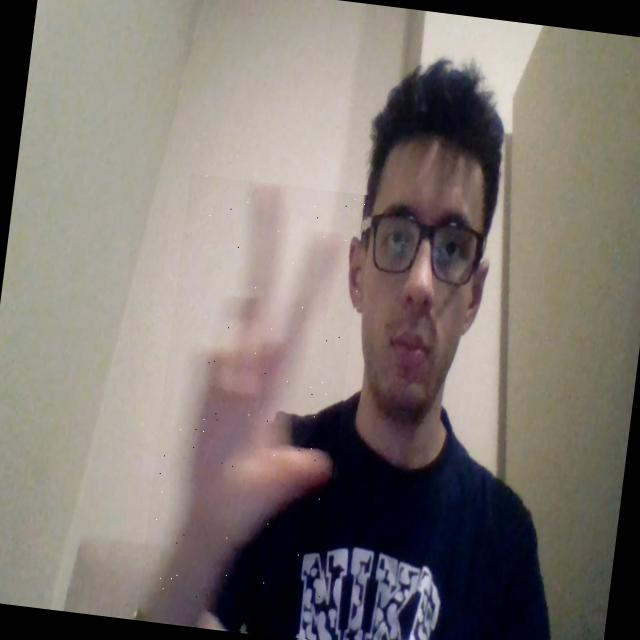no: (136, 173, 369, 640)
